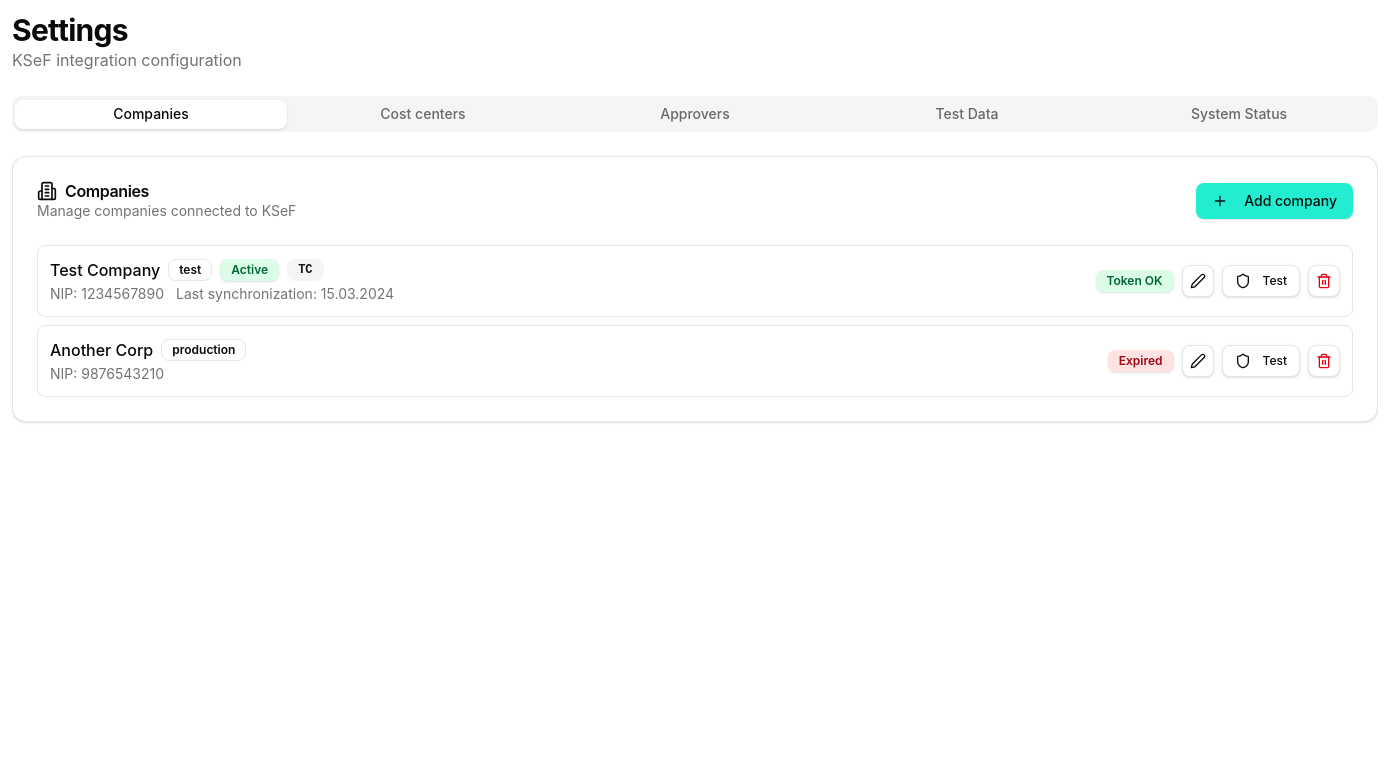
SettingsPage › switches to system status tab
Click the tab "System Status" at (1239, 114), box [1103,100,1375,128]
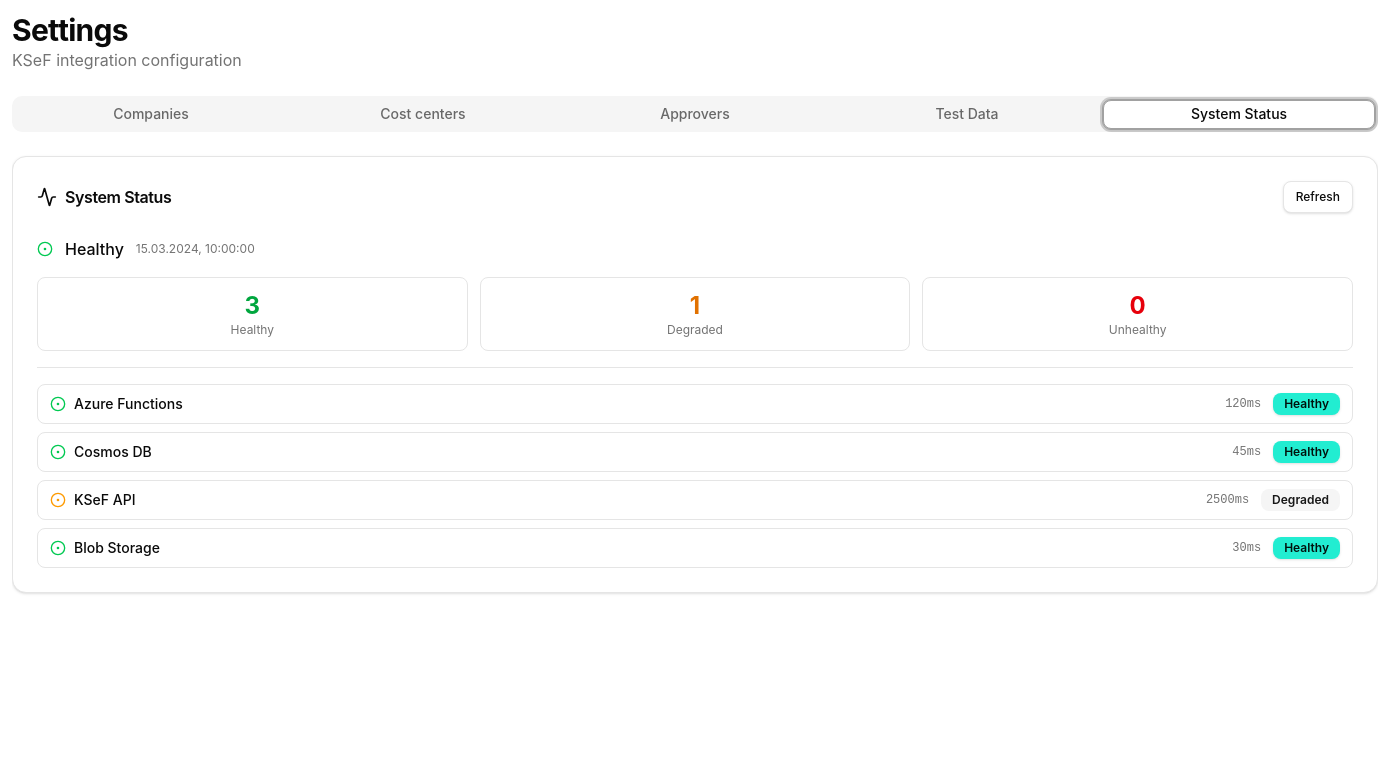
Expected: the text "Azure Functions" is shown, [74,394,183,414]
Expected: the text "Cosmos DB" is shown, [74,442,152,462]
